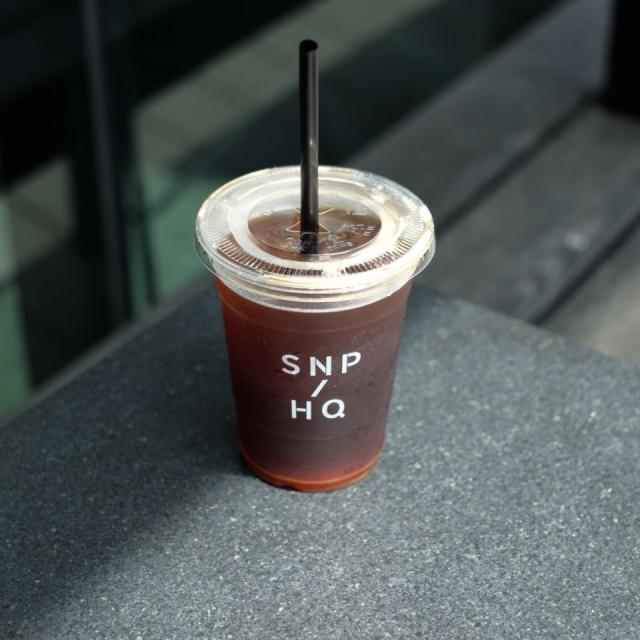plastic cup: (195, 163, 435, 491)
